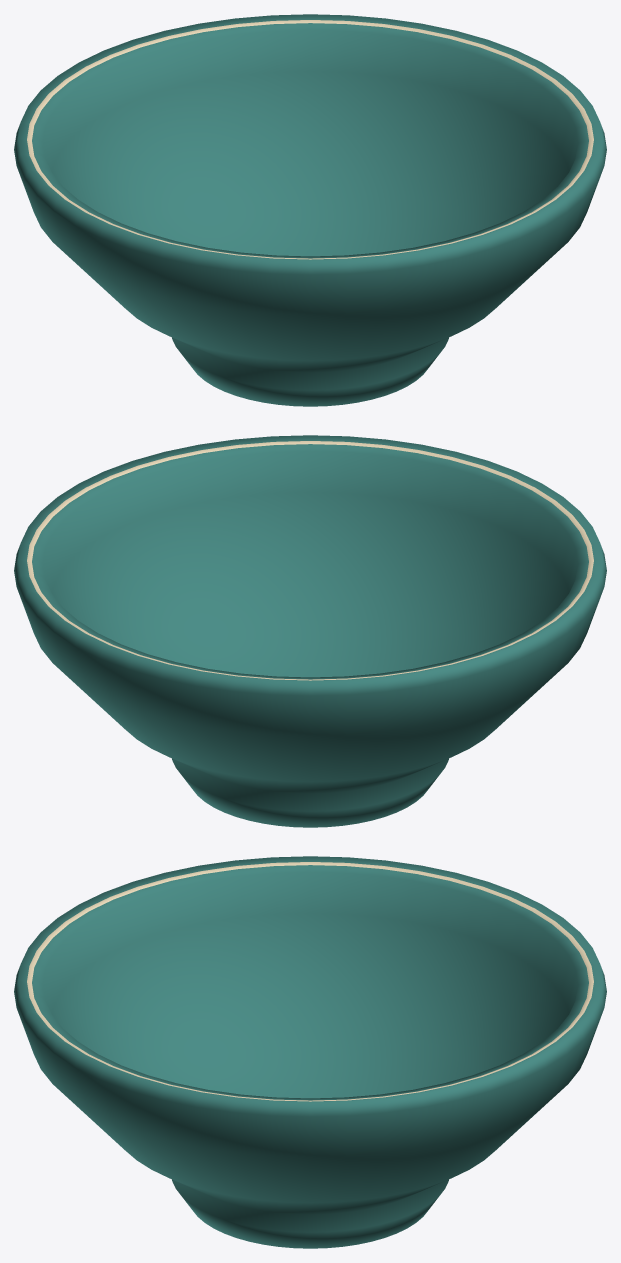
The model's file is ceramic-bowl.glb.
3 views of the same model, one above another, from view 1: azimuth 30°, elevation 25°; view 2: azimuth 150°, elevation 25°; view 3: azimuth 270°, elevation 25° (orthographic).
Parts seen in each view (by area): view 1: ceramic-bowl__Visual_glaze, ceramic-bowl__Visual_matte; view 2: ceramic-bowl__Visual_glaze, ceramic-bowl__Visual_matte; view 3: ceramic-bowl__Visual_glaze, ceramic-bowl__Visual_matte.
Boxes of the visible parts, x1,y1,x2,y2 form: ceramic-bowl__Visual_glaze: (14, 14, 606, 406); ceramic-bowl__Visual_matte: (27, 20, 593, 259); ceramic-bowl__Visual_glaze: (14, 435, 606, 827); ceramic-bowl__Visual_matte: (27, 441, 593, 680); ceramic-bowl__Visual_glaze: (14, 856, 606, 1248); ceramic-bowl__Visual_matte: (27, 862, 593, 1101).
Bounding box in the file's own units: 0.68 × 0.275 × 0.68.
